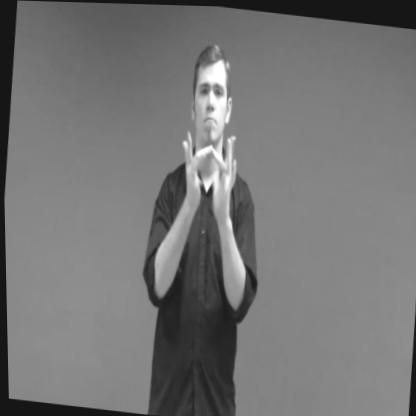Internet: (167, 118, 244, 225)
